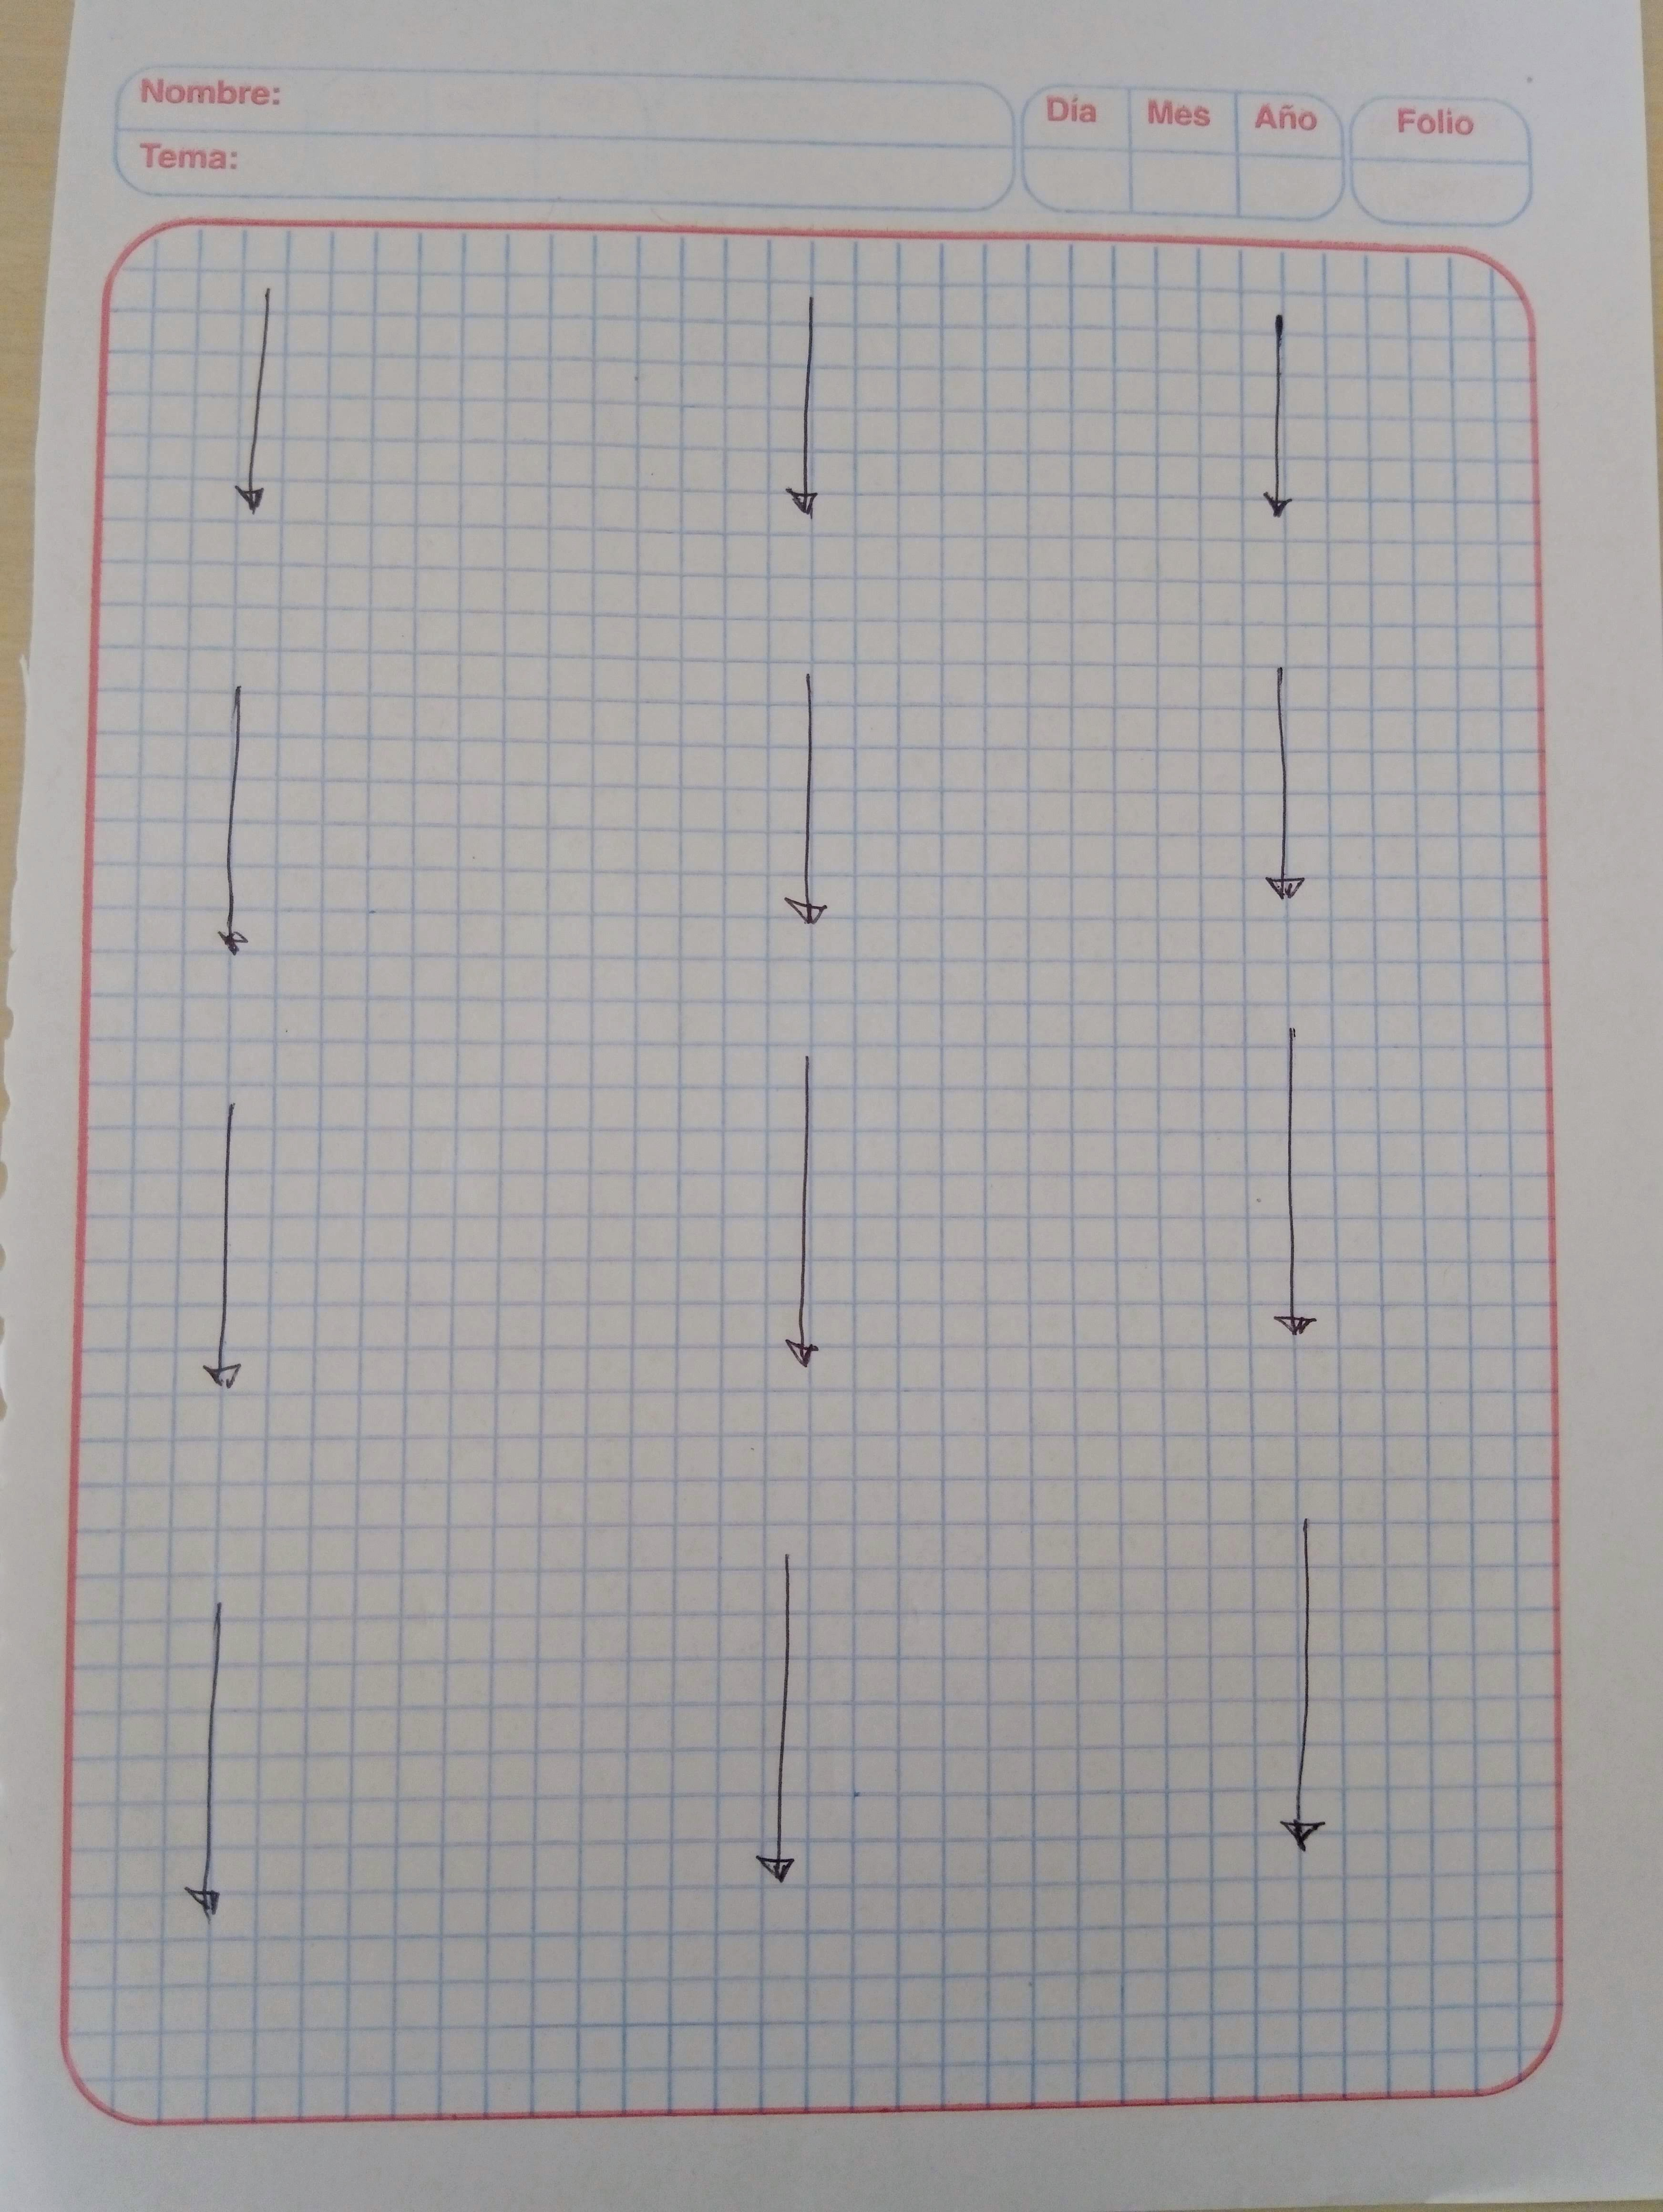arrow_line_down: (1240, 1014, 1347, 1351), (176, 1585, 264, 1934), (1266, 1510, 1347, 1861), (741, 1547, 811, 1898), (774, 1048, 844, 1391), (180, 1091, 257, 1391), (1237, 662, 1324, 918), (203, 681, 276, 965), (1259, 272, 1321, 538), (777, 684, 837, 938), (783, 299, 837, 545), (232, 288, 279, 538)
